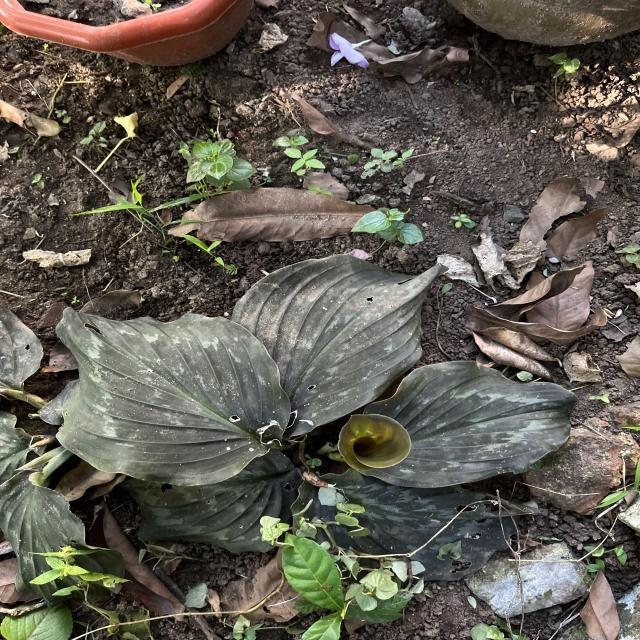Kaempferia galanga linn: (54, 304, 295, 488), (229, 252, 450, 444), (360, 358, 582, 491)
